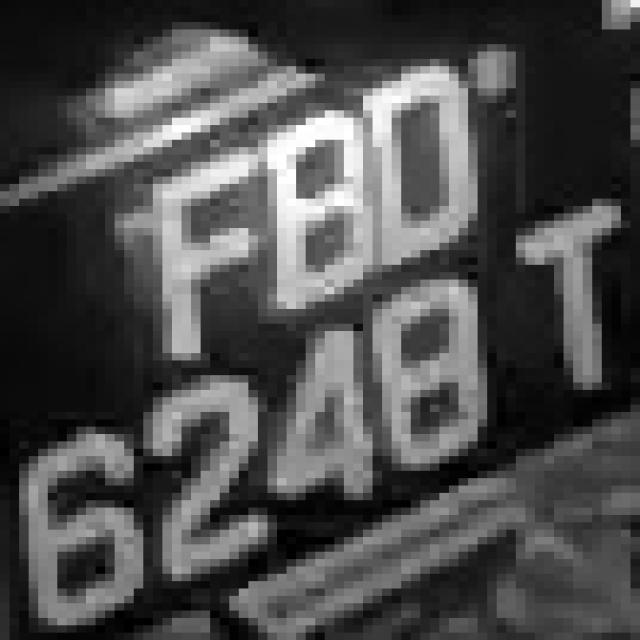2: (124, 375, 277, 581)
4: (239, 309, 372, 493)
6: (0, 390, 153, 618)
8: (344, 272, 497, 471)
B: (258, 88, 372, 302)
D: (354, 81, 506, 257)
F: (115, 118, 248, 368)
T: (478, 199, 621, 390)
